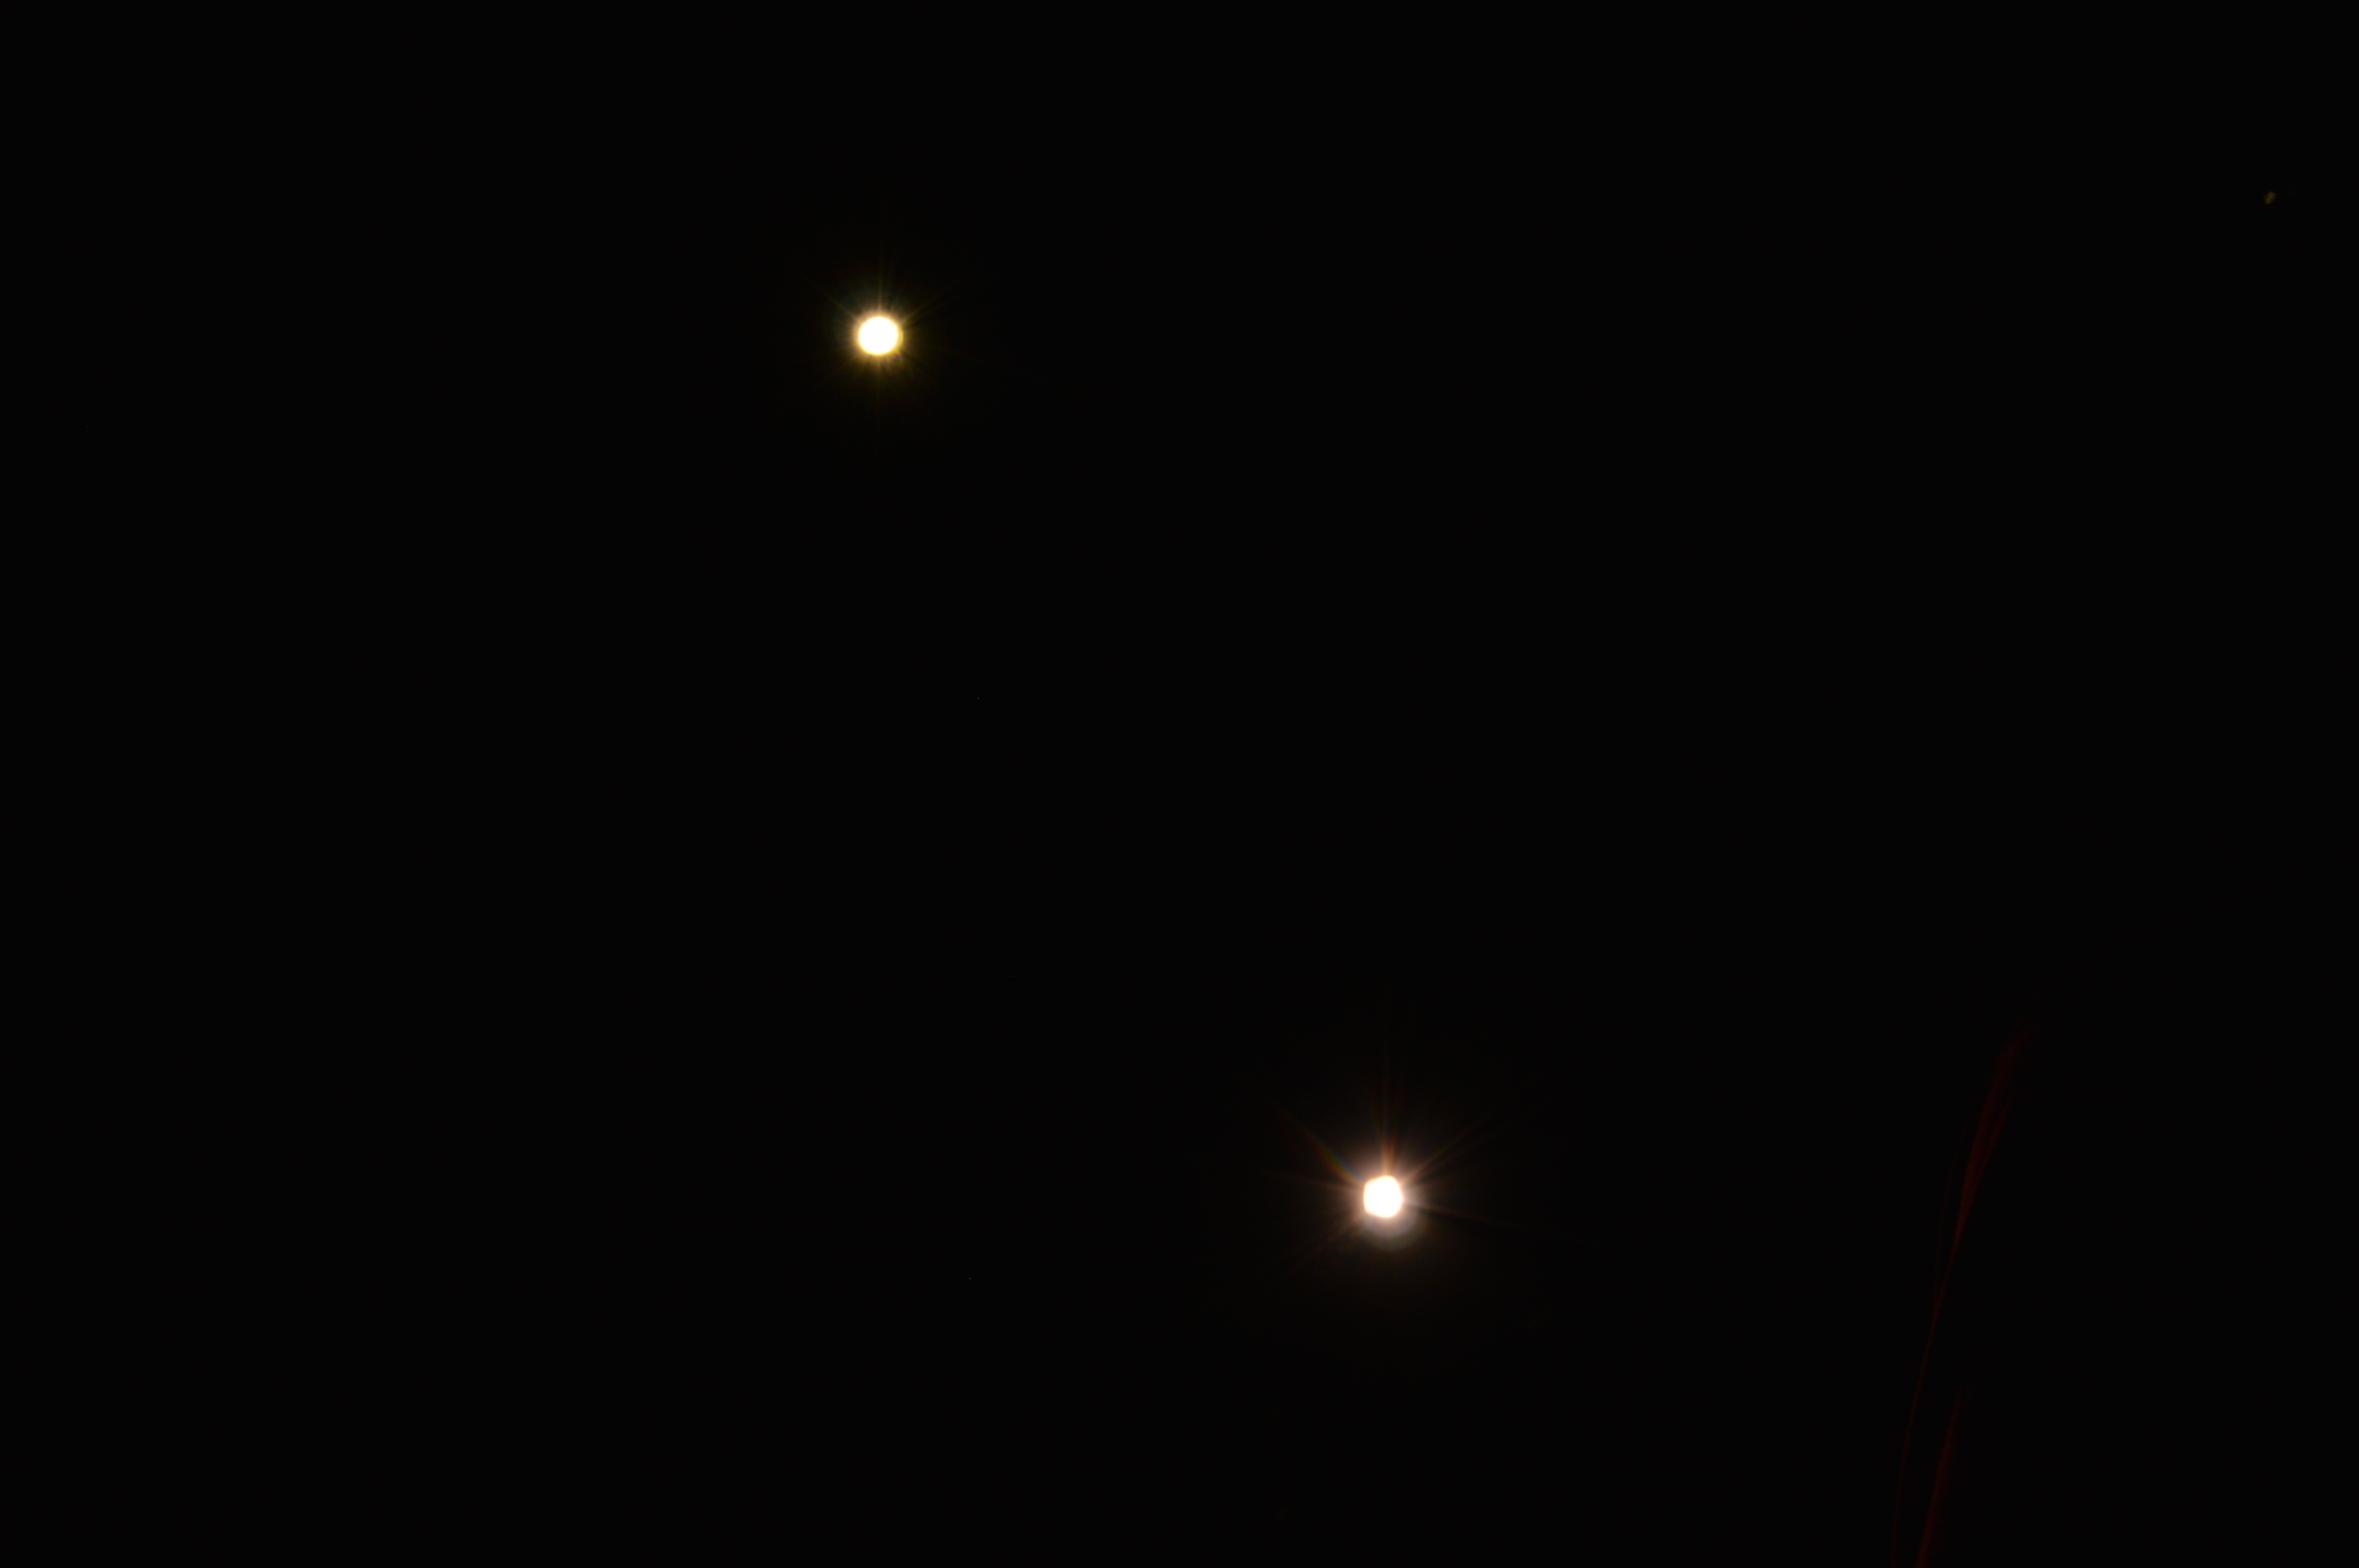Glare: (1344, 1164, 1416, 1225), (852, 308, 905, 359)
